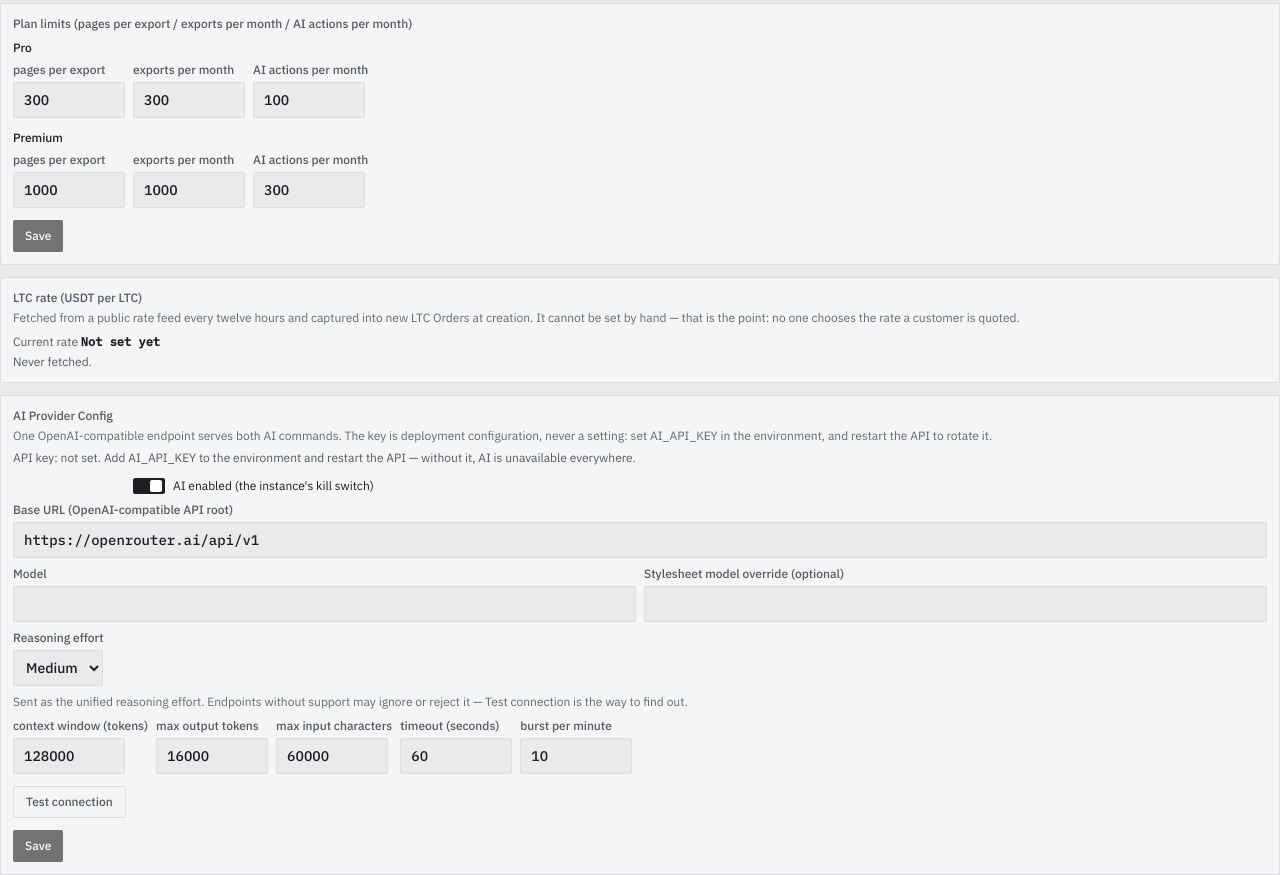
Test: shows a failed connection with its message and upstream detail
(page scrolled)
Click the button with test id "ai-test" at (69, 802), box [13,786,126,818]
(page scrolled)
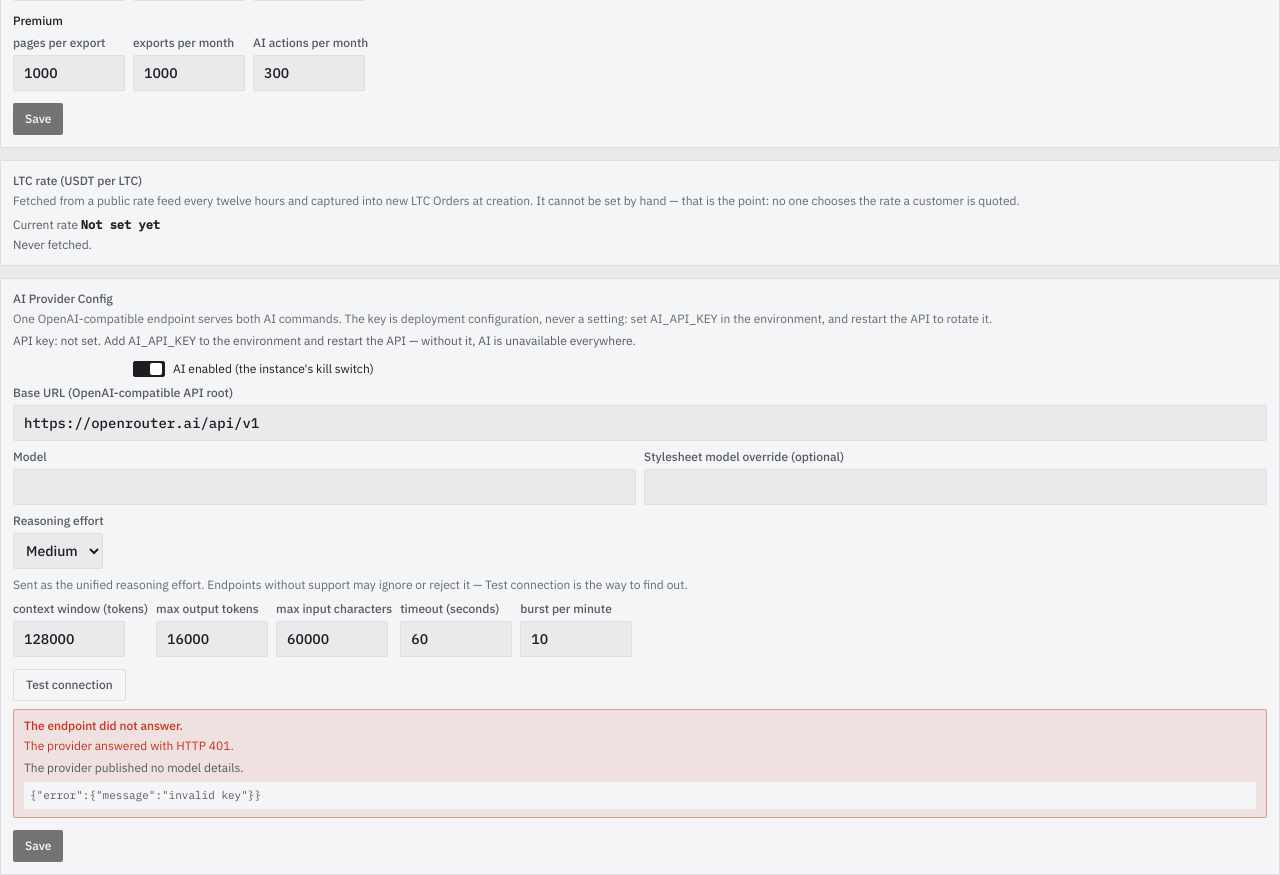
Result: the message with test id "ai-test-result" shows "The endpoint did not answer." at [24,718,183,733]
Result: the message with test id "ai-test-result" shows "The provider answered with HTTP 401." at [24,738,234,753]
Result: the text with test id "ai-test-detail" shows "invalid key" at [30,788,261,802]
